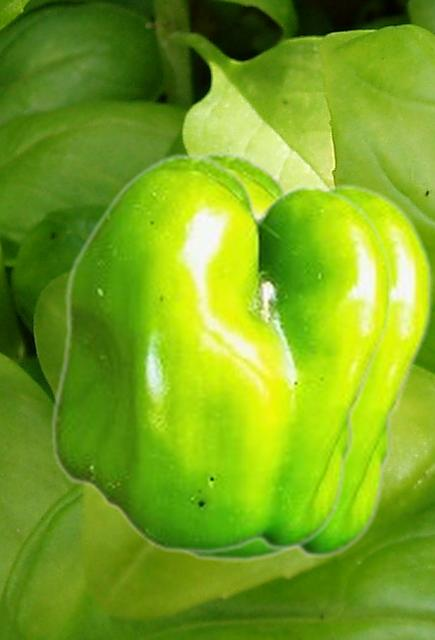bell_pepper: (50, 152, 391, 553), (181, 150, 431, 561)
